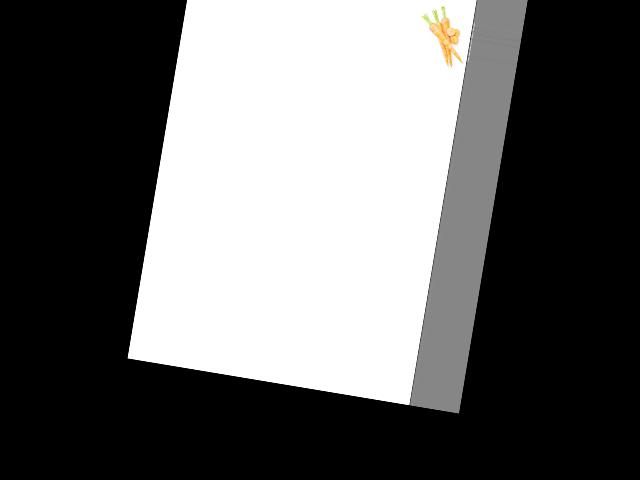carrot: (428, 11, 458, 68)
